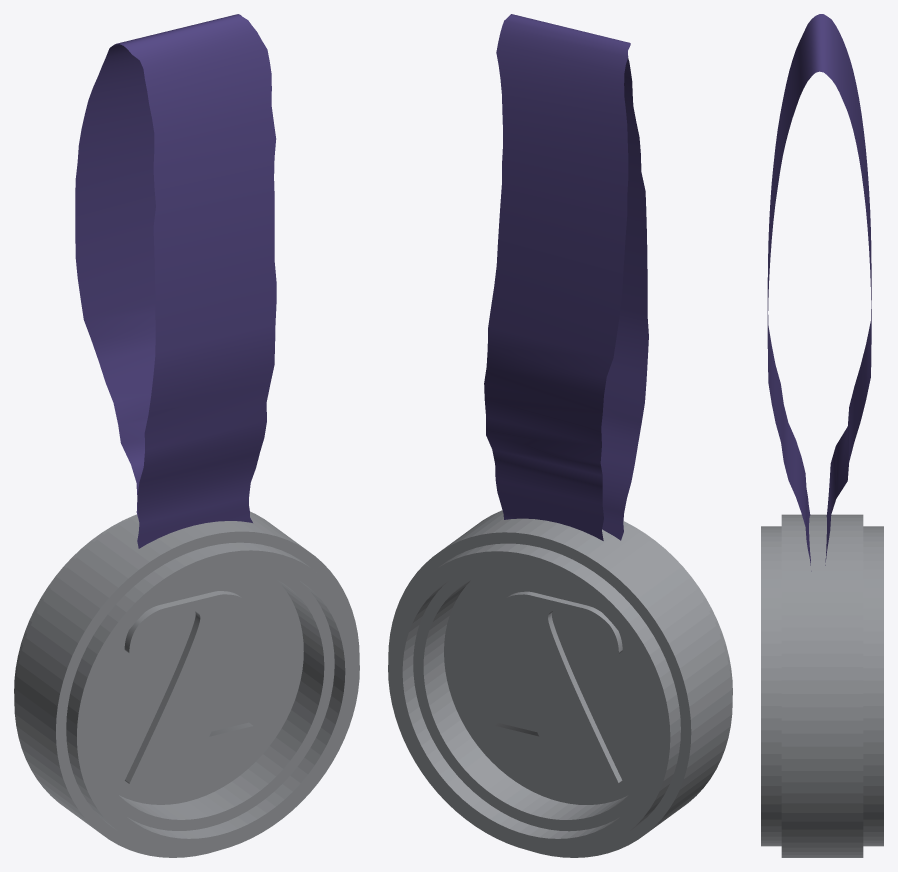
The model's file is 2023SEPT16-ShellHacks-Medal-Silver.glb.
The picture shows the model from 3 angles, left to right: view 1: azimuth 30°, elevation 25°; view 2: azimuth 150°, elevation 25°; view 3: azimuth 270°, elevation 25°; orthographic projection. The views are drawn at different scales.
Visible parts, largest first — view 1: Plane, Cylinder, Text; view 2: Cylinder, Plane, Text; view 3: Cylinder, Plane.
Boxes of the visible parts, box(x1,y1,x2,y2) form: Plane: box(75, 14, 276, 548); Cylinder: box(14, 511, 359, 857); Text: box(124, 591, 253, 783); Cylinder: box(388, 510, 732, 857); Plane: box(484, 14, 648, 540); Text: box(495, 591, 622, 783); Cylinder: box(761, 514, 883, 857); Plane: box(767, 14, 871, 571).
Bounding box in the file's own units: 2 × 5.11 × 0.7157.
